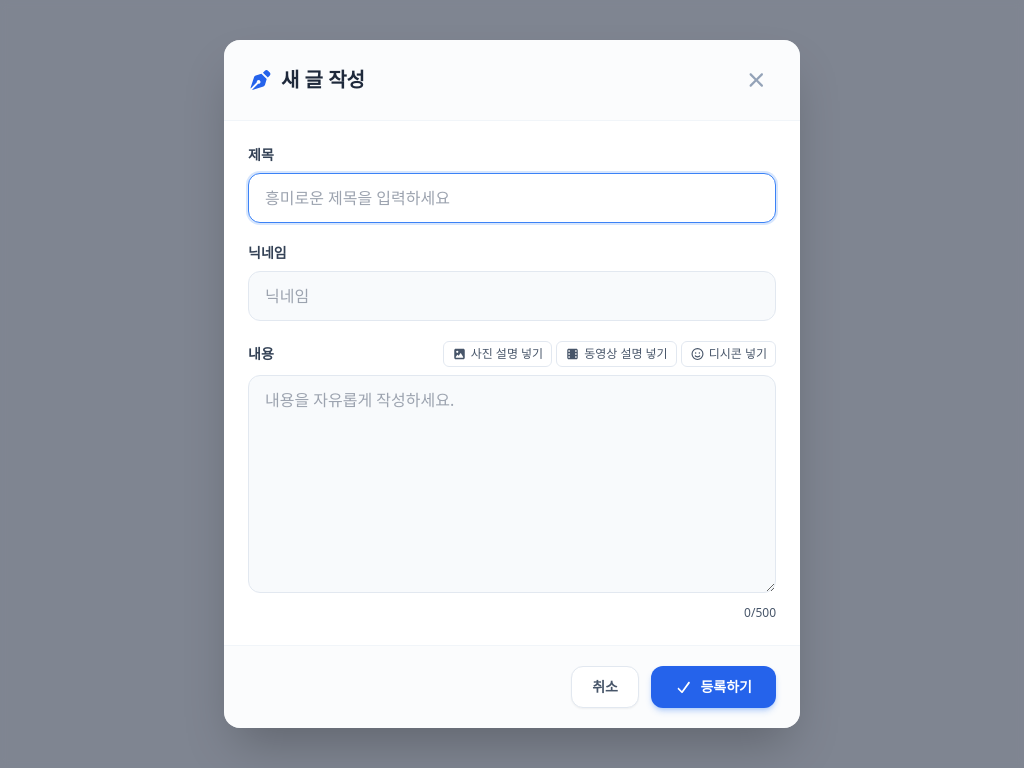
frontend accessibility primitives › shows the precise post submission failure inside the open modal
In the field labelled "제목": point(512, 198) [248,173,776,223], type "새 게시물"
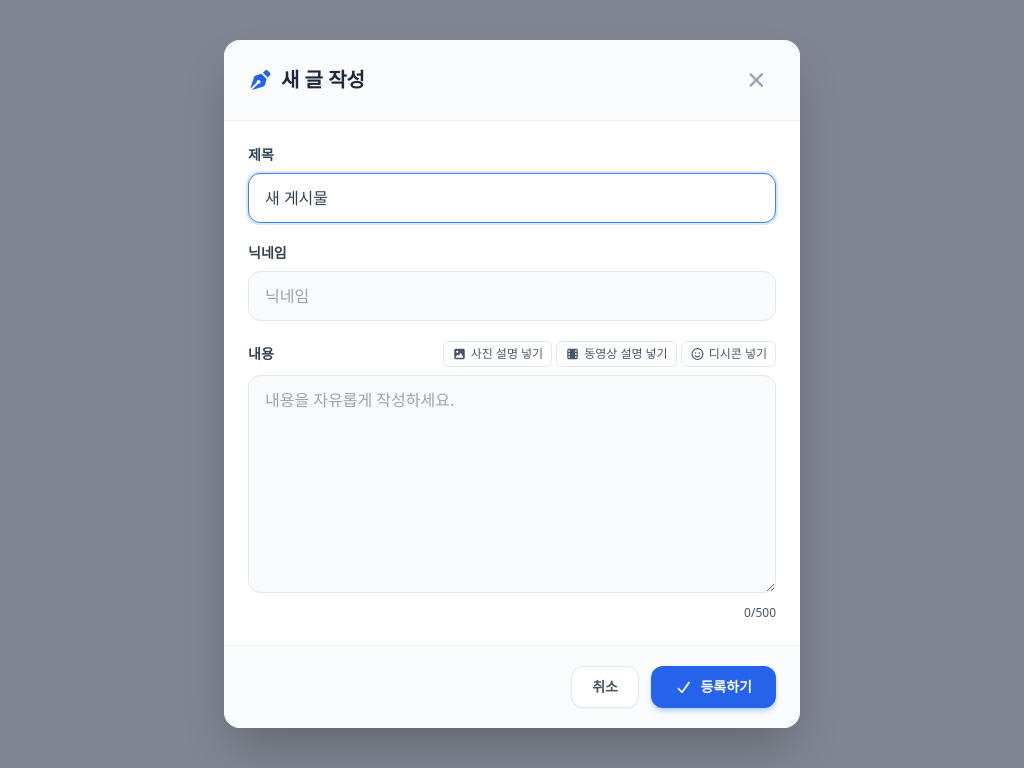
In the field labelled "닉네임": point(512, 296) [248,271,776,321], type "작성자"
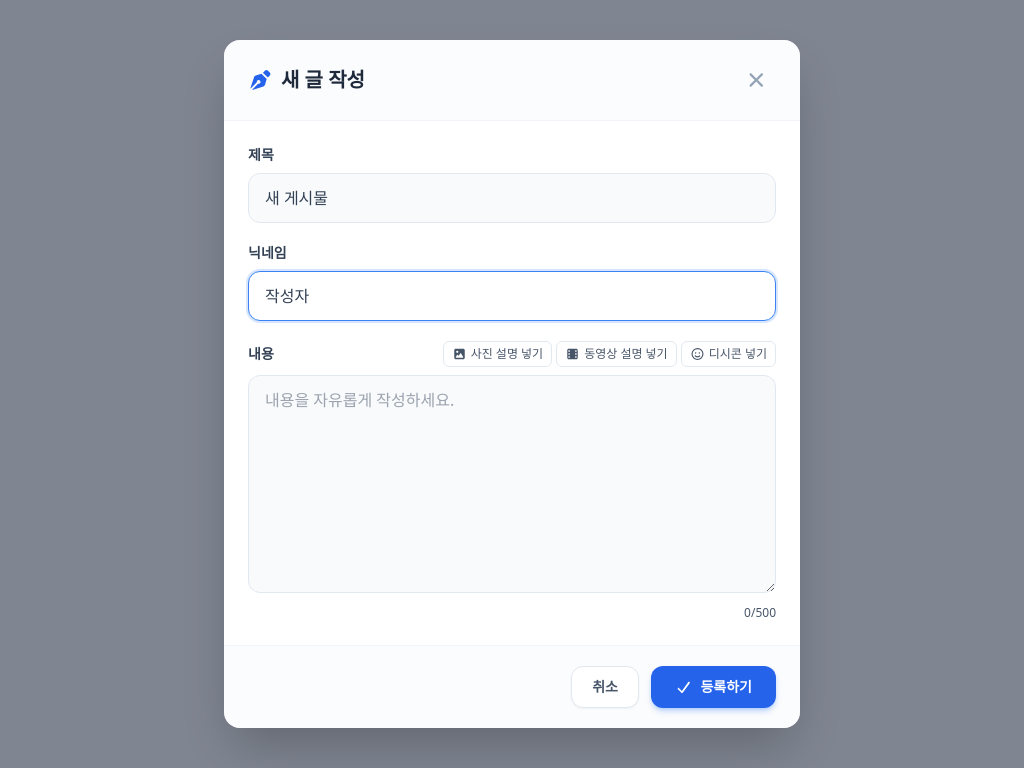
In the text box labelled "내용": point(512, 484) [248,375,776,593], type "게시물 내용"
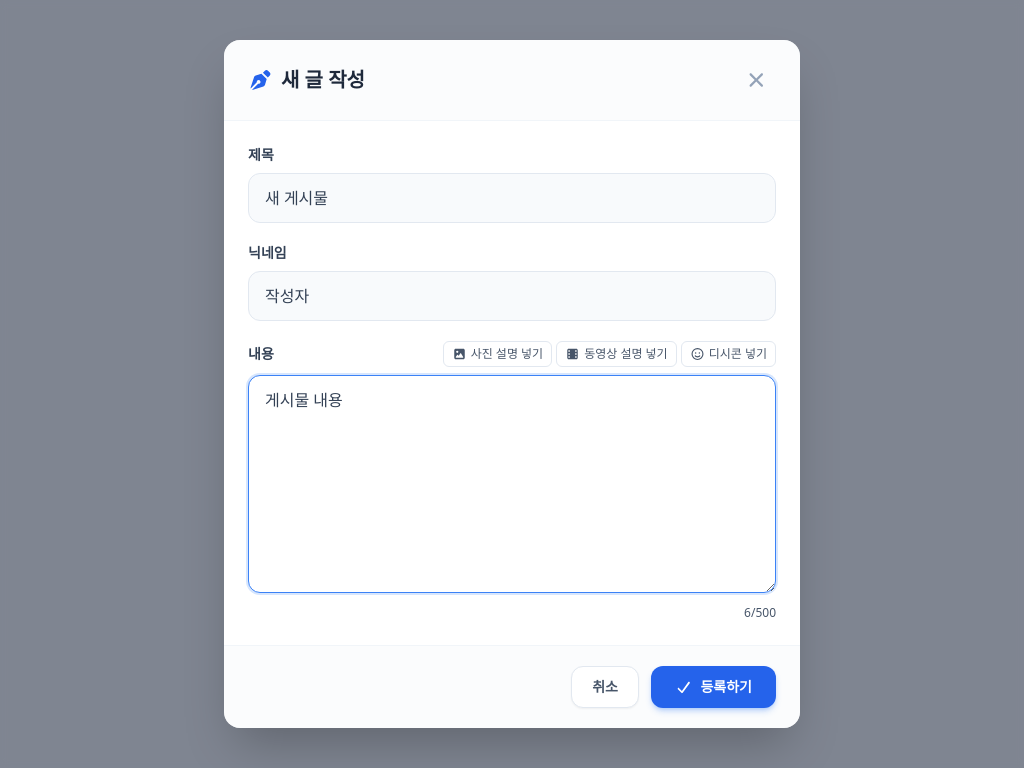
Click the button "등록하기": point(714, 687) [651,666,776,708]
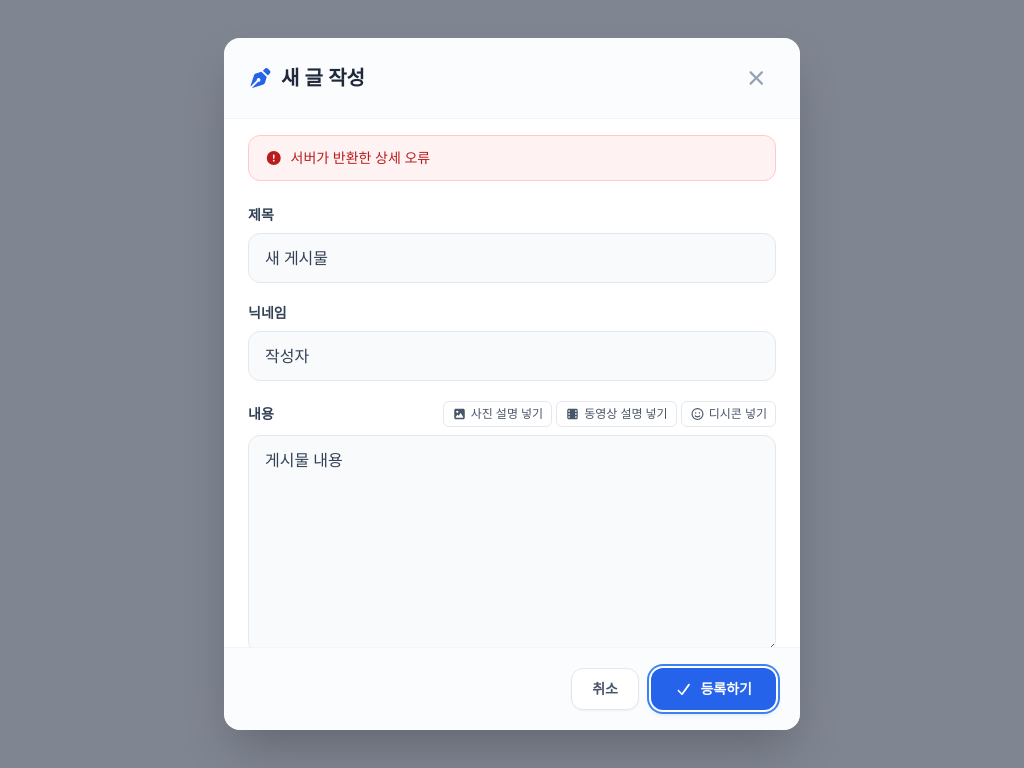
Expected: the message reads "서버가 반환한 상세 오류", [290,148,430,167]
